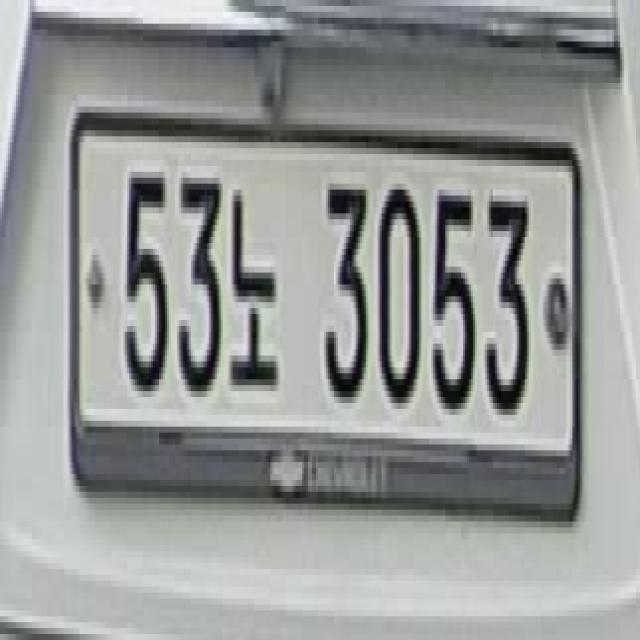0: (376, 154, 421, 409)
3: (312, 172, 374, 409), (169, 166, 231, 397), (479, 178, 531, 438)
5: (117, 142, 173, 391), (429, 166, 477, 409)
license_plate: (70, 89, 580, 539)
no: (223, 160, 286, 391)
